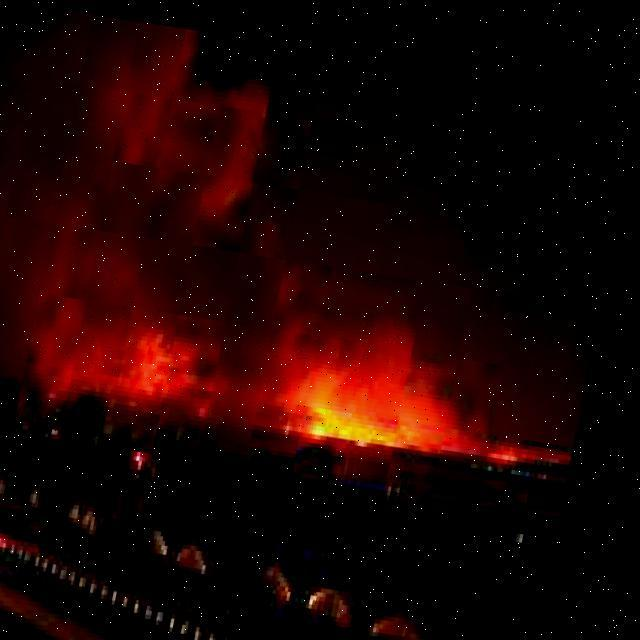Fire: (38, 269, 536, 454)
